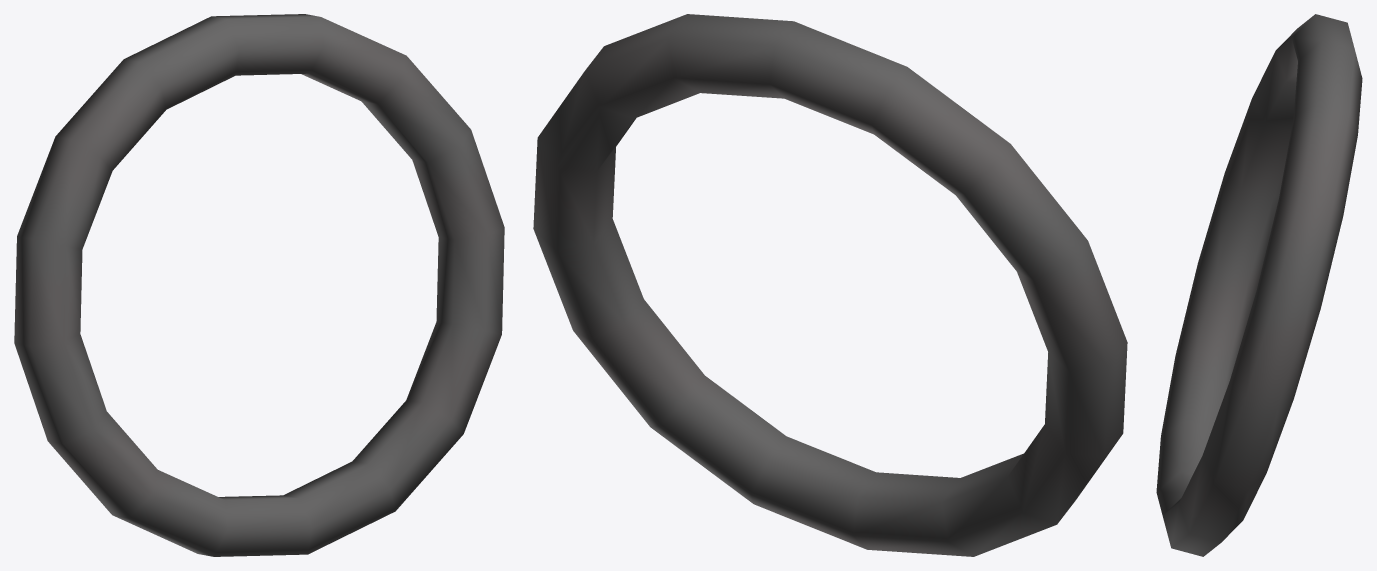
The model's file is Grenade_Smoke_02_Pin.fbx.
3 views of the same model, side by side, from view 1: azimuth 30°, elevation 25°; view 2: azimuth 150°, elevation 25°; view 3: azimuth 270°, elevation 25° (orthographic). The views are drawn at different scales.
Parts seen in each view (by area): view 1: Grenade_Smoke_02_Pin; view 2: Grenade_Smoke_02_Pin; view 3: Grenade_Smoke_02_Pin.
Boxes of the visible parts, left/top/right/bottom form: Grenade_Smoke_02_Pin: left=14, top=14, right=504, bottom=556; Grenade_Smoke_02_Pin: left=533, top=14, right=1127, bottom=556; Grenade_Smoke_02_Pin: left=1156, top=14, right=1362, bottom=556.
Size of the model in its own units: 5.44 by 5.31 by 2.02.
